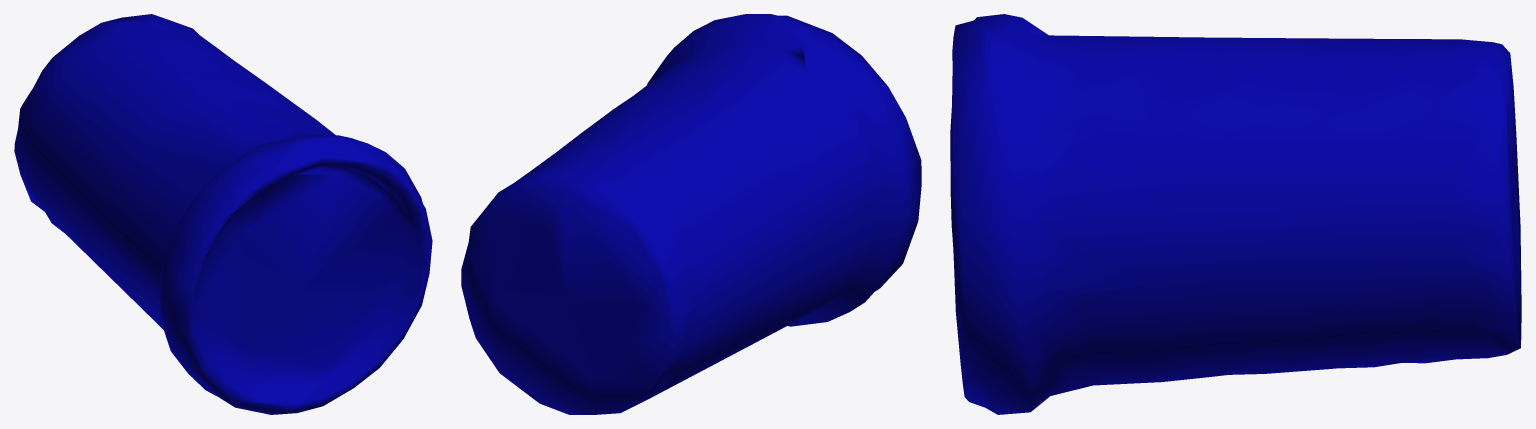
The model's file is cup1_2.dae.
The picture shows the model from 3 angles, left to right: view 1: azimuth 30°, elevation 25°; view 2: azimuth 150°, elevation 25°; view 3: azimuth 270°, elevation 25°; orthographic projection. The views are drawn at different scales.
Visible parts, largest first — view 1: BakingVanilla_800_tex; view 2: BakingVanilla_800_tex; view 3: BakingVanilla_800_tex.
Part boxes in pixels (x1,y1,x2,y2): BakingVanilla_800_tex: (14, 14, 432, 414); BakingVanilla_800_tex: (461, 14, 921, 414); BakingVanilla_800_tex: (950, 14, 1521, 414).
Size of the model in its own units: 0.0447 by 0.0636 by 0.045.
